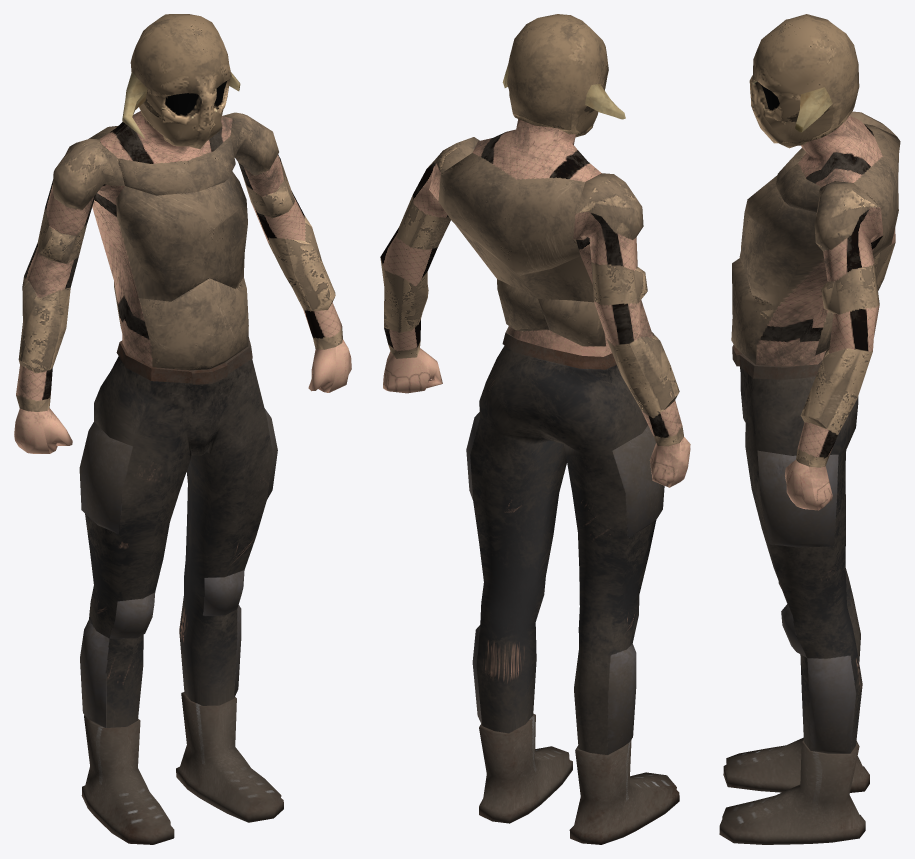
Rendered from Anim_recibirdanyo_npc1.0012.obj.
3 views of the same model, side by side, from view 1: azimuth 30°, elevation 25°; view 2: azimuth 150°, elevation 25°; view 3: azimuth 270°, elevation 25° (orthographic).
Visible parts, largest first — view 1: NPC2; view 2: NPC2; view 3: NPC2.
Part boxes in pixels (x1,y1,x2,y2): NPC2: [14, 14, 351, 844]; NPC2: [380, 14, 690, 844]; NPC2: [719, 14, 900, 844].
Size of the model in its own units: 4.04 by 9.59 by 1.98.
